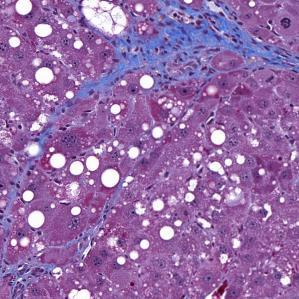fibrosis: (116, 6, 254, 79)
